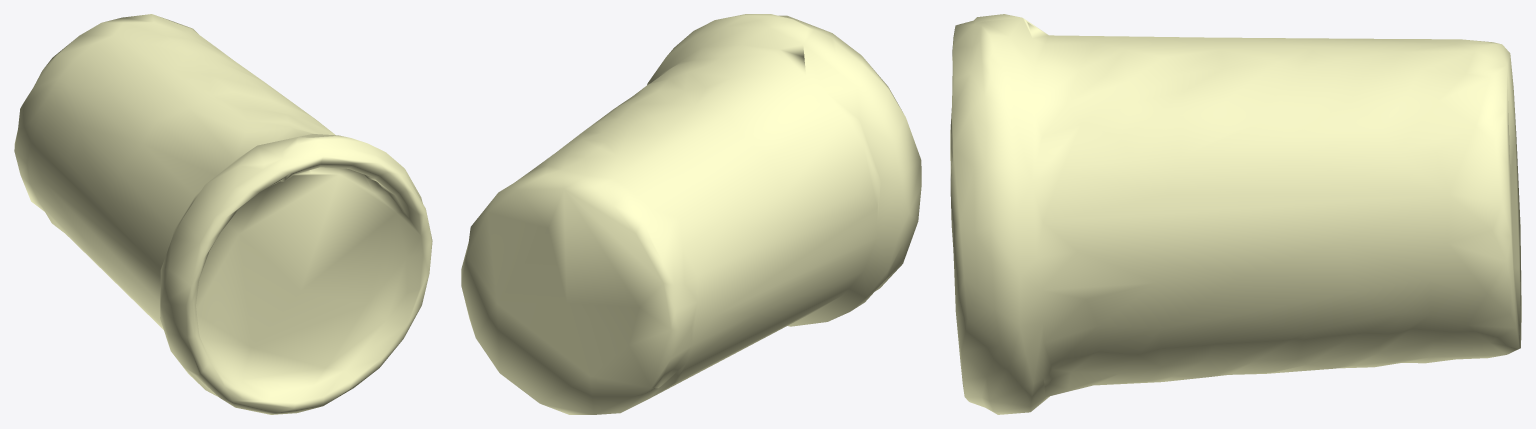
Rendered from cup1_3.dae.
3 renders of one model, left to right at view 1: azimuth 30°, elevation 25°; view 2: azimuth 150°, elevation 25°; view 3: azimuth 270°, elevation 25°, orthographic. The views are drawn at different scales.
Parts seen in each view (by area): view 1: BakingVanilla_800_tex_019; view 2: BakingVanilla_800_tex_019; view 3: BakingVanilla_800_tex_019.
Part boxes in pixels (x1,y1,x2,y2): BakingVanilla_800_tex_019: (14, 14, 432, 414); BakingVanilla_800_tex_019: (461, 14, 921, 414); BakingVanilla_800_tex_019: (950, 14, 1521, 414).
Bounding box in the file's own units: 0.1593 × 0.2268 × 0.1605.
